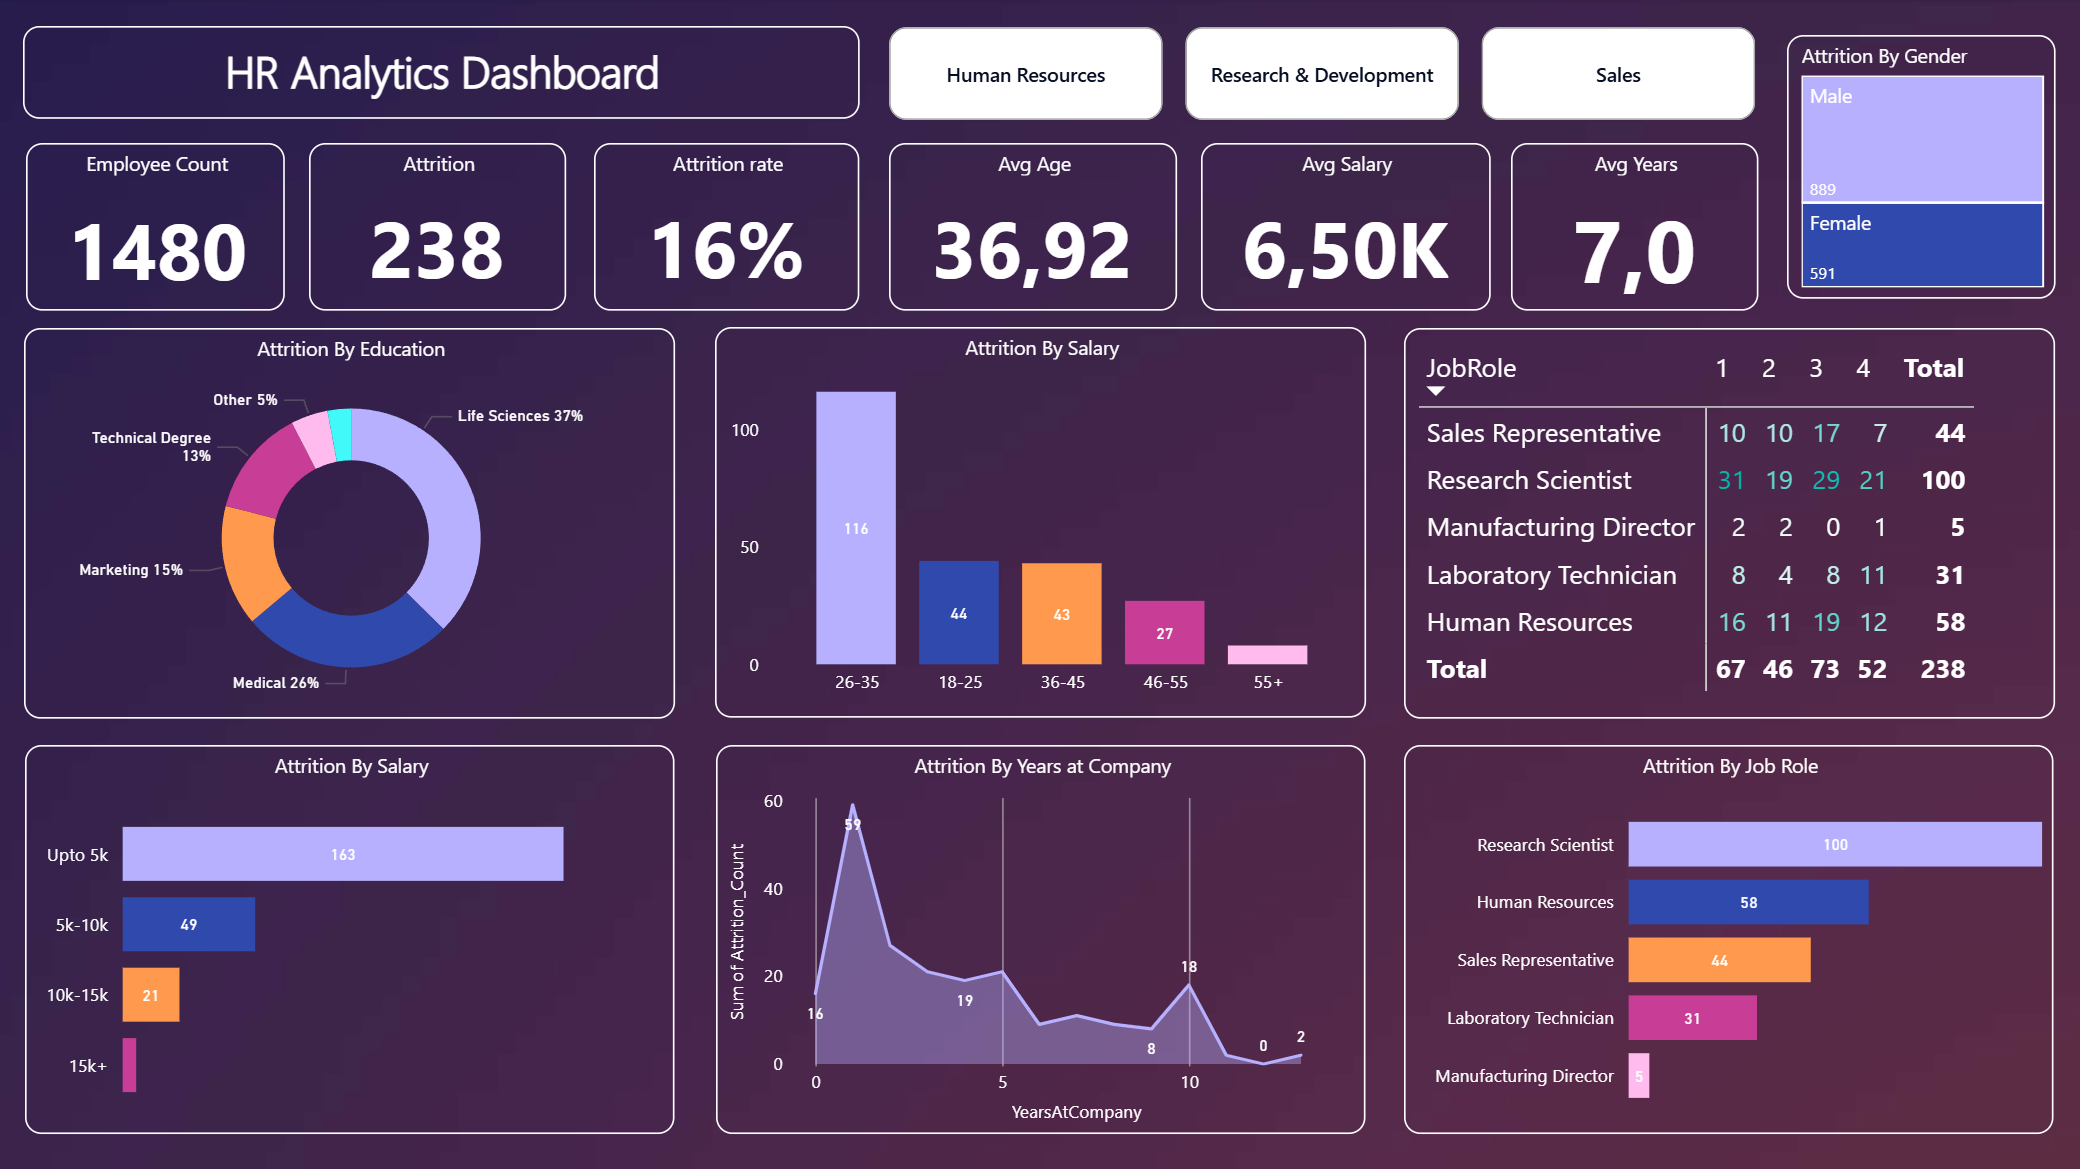

What the dashboard file says about the page in this screenshot:
{"tool":"powerbi","page":{"name":"Page 1","canvas":[1280,720],"ordinal":0},"visuals":[{"type":"cardVisual","title":"Employee Count","fields":{"Data":["CountNonNull(HR_Data.EmpID)"]},"box":[16.6,88.5,159.1,102.6],"z":0},{"type":"cardVisual","title":"Attrition","fields":{"Data":["Sum(HR_Data.Attrition_Count)"]},"box":[190.4,88.5,157.9,102.6],"z":1000},{"type":"cardVisual","title":"Attrition rate","fields":{"Data":["HR_Data.Attrition Rate"]},"box":[365.5,88.5,162.8,102.6],"z":2000},{"type":"cardVisual","title":"Avg Age","fields":{"Data":["Avg(HR_Data.Age)"]},"box":[546.8,88.5,176.9,102.6],"z":3000},{"type":"cardVisual","title":"Avg Salary","fields":{"Data":["Avg(HR_Data.MonthlyIncome)"]},"box":[738.4,88.5,177.5,102.6],"z":4000},{"type":"cardVisual","title":"Avg Years","fields":{"Data":["Avg(HR_Data.YearsAtCompany)"]},"box":[928.9,88.5,151.7,102.6],"z":5000},{"type":"textbox","box":[14.9,17,513.3,57.3],"z":6000},{"type":"advancedSlicerVisual","fields":{"Values":["Departments.Department"]},"box":[541.6,12,543.7,67.3],"z":7000},{"type":"treemap","title":"Attrition By Gender","fields":{"Values":["CountNonNull(HR_Data.Attrition_Count)"],"Group":["HR_Data.Gender"]},"box":[1098.6,22,164.5,161.9],"z":8000},{"type":"donutChart","title":"Attrition By Education","fields":{"Category":["Education.Education"],"Y":["Sum(HR_Data.Attrition_Count)"]},"box":[15.4,202.1,400,240],"z":9000},{"type":"barChart","title":"Attrition By Salary","fields":{"Category":["HR_Data.SalarySlab"],"Y":["Sum(HR_Data.Attrition_Count)"],"Series":["HR_Data.SalarySlab"]},"box":[16,458.3,399.3,239],"z":10000},{"type":"columnChart","title":"Attrition By Salary","fields":{"Category":["HR_Data.AgeGroup"],"Y":["Sum(HR_Data.Attrition_Count)"],"Series":["HR_Data.AgeGroup"]},"box":[439.9,201.5,399.9,240.2],"z":11000},{"type":"pivotTable","title":"Attrition By Education","fields":{"Rows":["Jobs.JobRole"],"Columns":["HR_Data.JobSatisfaction"],"Values":["Sum(HR_Data.Attrition_Count)"]},"box":[863.1,202.1,399.9,240.2],"z":12000},{"type":"areaChart","title":"Attrition By Years at Company","fields":{"Category":["HR_Data.YearsAtCompany"],"Y":["Sum(HR_Data.Attrition_Count)"]},"box":[440.5,458.3,399.3,239],"z":13000},{"type":"barChart","title":"Attrition By Job Role","fields":{"Y":["Sum(HR_Data.Attrition_Count)"],"Category":["Jobs.JobRole"],"Series":["Jobs.JobRole"]},"box":[863.1,458.3,399.3,239],"z":14000}]}

Visuals, with their boxes in screenshot pixels (x1, y1, x2, y2), scaled from the page's 1280x720 canvas onto the 2080x1169 screenshot:
"Employee Count" cardVisual: 27,144,286,310
"Attrition" cardVisual: 309,144,566,310
"Attrition rate" cardVisual: 594,144,858,310
"Avg Age" cardVisual: 889,144,1176,310
"Avg Salary" cardVisual: 1200,144,1488,310
"Avg Years" cardVisual: 1509,144,1756,310
textbox: 24,28,858,121
advancedSlicerVisual - Departments.Department: 880,19,1764,129
"Attrition By Gender" treemap: 1785,36,2053,299
"Attrition By Education" donutChart: 25,328,675,718
"Attrition By Salary" barChart: 26,744,675,1132
"Attrition By Salary" columnChart: 715,327,1365,717
"Attrition By Education" pivotTable: 1403,328,2052,718
"Attrition By Years at Company" areaChart: 716,744,1365,1132
"Attrition By Job Role" barChart: 1403,744,2051,1132
